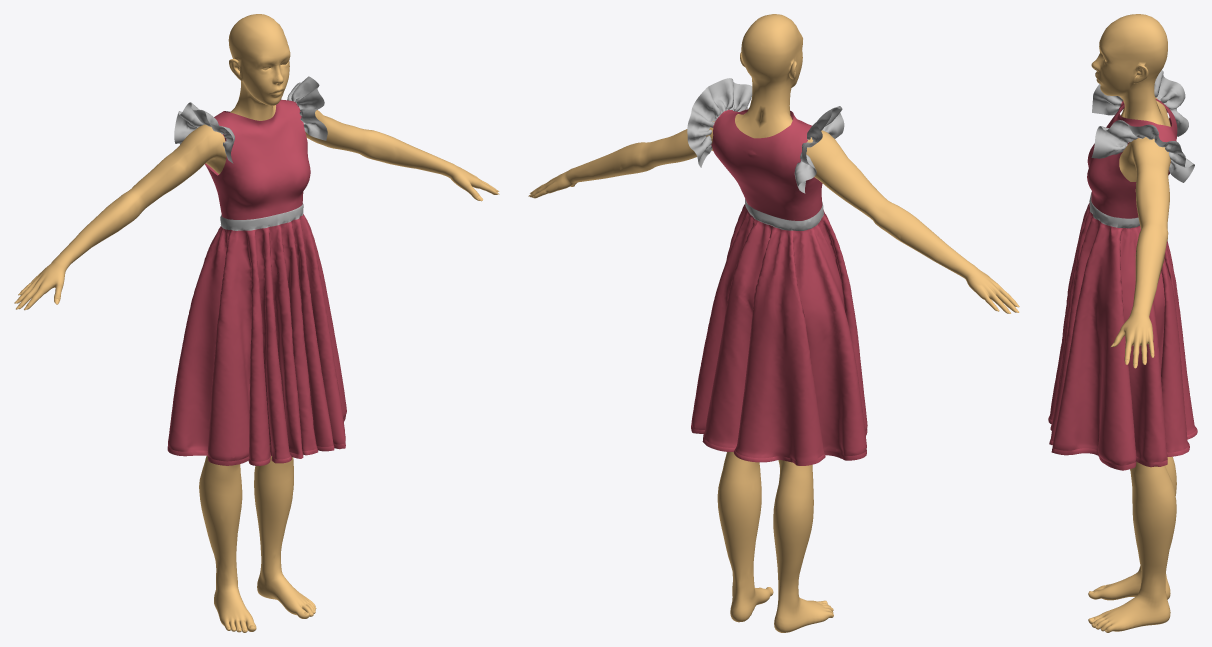
File: dress4.glb
The picture shows the model from 3 angles, left to right: view 1: azimuth 30°, elevation 25°; view 2: azimuth 150°, elevation 25°; view 3: azimuth 270°, elevation 25°; orthographic projection.
Visible parts, largest first — view 1: PinkDrees#14 (OBJ), Body; view 2: PinkDrees#14 (OBJ), Body; view 3: PinkDrees#14 (OBJ), Body.
Boxes of the visible parts, x1,y1,x2,y2 form: PinkDrees#14 (OBJ): (167,76,346,465); Body: (17,14,498,632); PinkDrees#14 (OBJ): (687,78,867,465); Body: (529,14,1016,632); PinkDrees#14 (OBJ): (1048,70,1197,470); Body: (1088,14,1176,632).
Bounding box in the file's own units: 1.58 × 1.85 × 0.4187.
